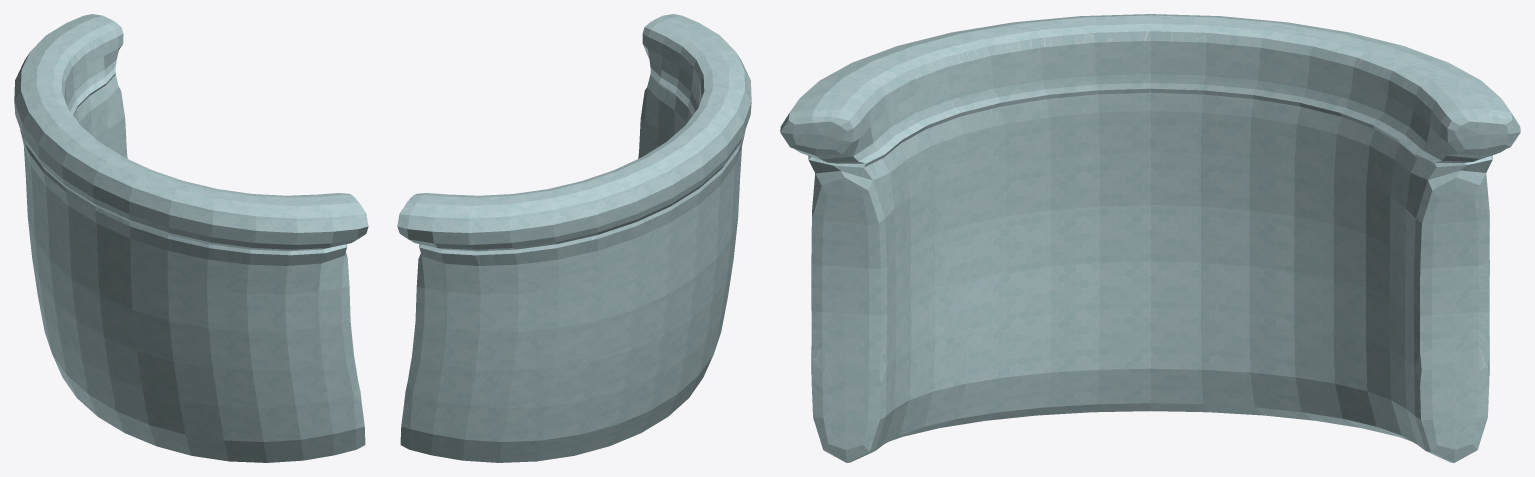
The model's file is BathTub.glb.
The picture shows the model from 3 angles, left to right: view 1: azimuth 30°, elevation 25°; view 2: azimuth 150°, elevation 25°; view 3: azimuth 270°, elevation 25°; orthographic projection. The views are drawn at different scales.
Parts seen in each view (by area): view 1: Cylinder; view 2: Cylinder; view 3: Cylinder.
Boxes of the visible parts, x1=… form: Cylinder: x1=14, y1=14, x2=368, y2=462; Cylinder: x1=397, y1=14, x2=751, y2=462; Cylinder: x1=780, y1=14, x2=1520, y2=462.
Bounding box in the file's own units: 5.16 × 7.58 × 13.57.
Materials: 1 (1 with a texture image).
